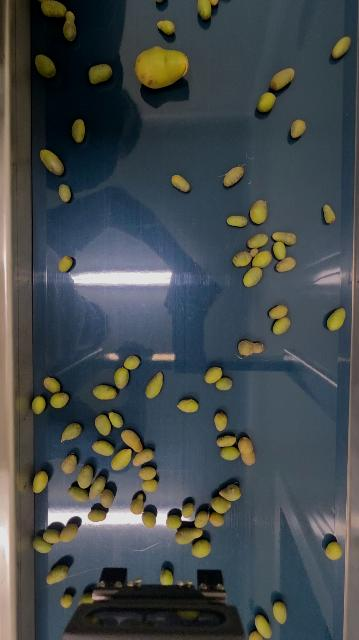Baby Potato: (132, 45, 191, 91), (40, 147, 65, 176), (33, 52, 58, 80), (270, 67, 297, 92), (238, 435, 258, 467), (87, 63, 113, 85), (327, 305, 348, 332), (121, 428, 144, 452), (175, 526, 205, 544), (145, 372, 164, 400), (46, 563, 69, 586), (223, 164, 245, 188), (332, 35, 353, 60), (250, 198, 269, 225), (41, 0, 68, 19), (62, 10, 78, 42), (111, 448, 133, 471), (238, 339, 266, 357), (255, 613, 274, 639), (257, 90, 277, 114), (232, 248, 256, 268), (88, 475, 107, 500), (219, 483, 243, 502), (92, 383, 118, 400), (244, 266, 264, 288), (61, 423, 83, 443), (32, 470, 50, 494), (273, 229, 298, 246), (252, 248, 273, 268), (132, 448, 155, 466), (94, 413, 112, 436), (77, 464, 94, 488), (191, 538, 211, 558), (273, 600, 289, 625), (171, 173, 191, 193), (212, 495, 233, 514), (247, 232, 269, 250), (113, 366, 130, 389), (71, 118, 86, 144), (92, 440, 116, 456), (196, 0, 214, 21), (178, 397, 200, 414), (272, 316, 291, 335), (60, 522, 78, 542), (276, 256, 297, 273), (61, 453, 78, 474), (290, 118, 307, 139), (326, 540, 343, 561), (68, 485, 89, 502), (273, 239, 289, 261), (130, 492, 145, 515), (205, 365, 223, 384), (157, 18, 177, 35), (50, 391, 70, 408), (214, 410, 229, 432), (227, 214, 249, 229), (33, 536, 52, 553), (216, 434, 239, 448), (31, 395, 47, 415), (269, 304, 289, 320), (100, 487, 115, 508), (43, 376, 61, 393), (195, 509, 211, 528), (220, 445, 240, 460), (58, 255, 74, 273), (324, 203, 337, 225), (181, 501, 196, 520), (138, 466, 158, 480), (43, 527, 60, 543), (124, 354, 141, 370), (88, 508, 107, 522), (58, 183, 71, 203), (108, 411, 123, 428), (216, 376, 233, 391), (142, 511, 157, 528), (210, 511, 225, 527), (141, 479, 158, 493), (160, 569, 174, 586), (167, 514, 182, 529), (60, 593, 74, 608), (248, 630, 266, 640), (78, 594, 93, 604)
